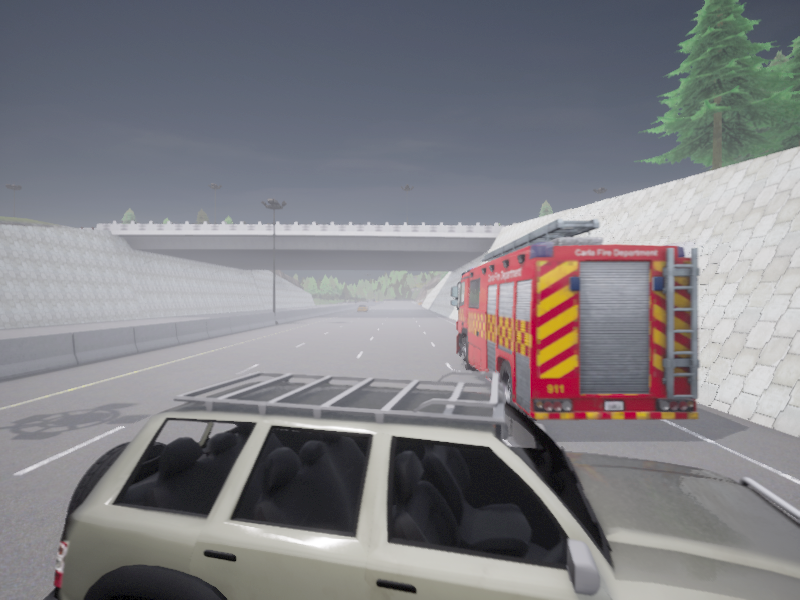vehicle: (44, 371, 799, 599), (451, 219, 699, 419), (357, 304, 368, 312)
